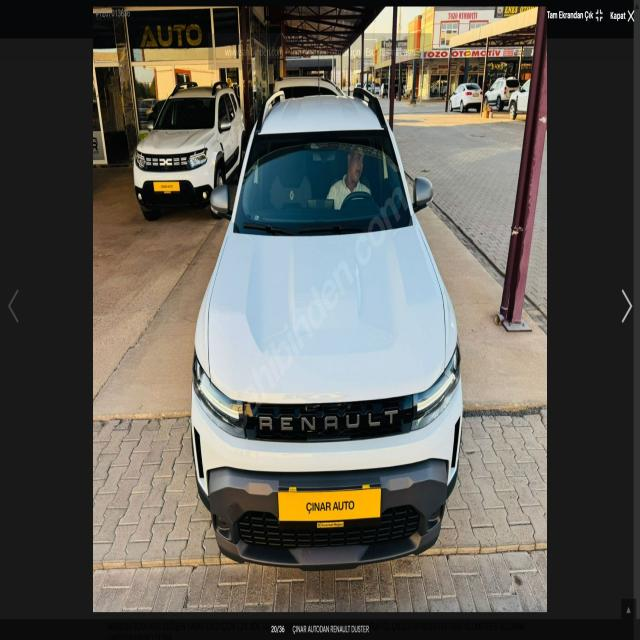renault: (257, 408, 403, 436)
